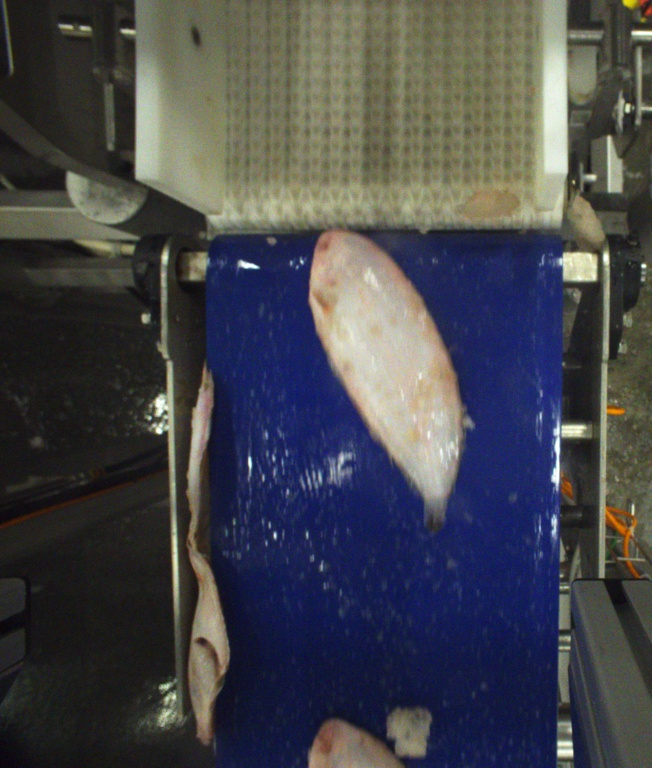SOL: (311, 227, 463, 535)
